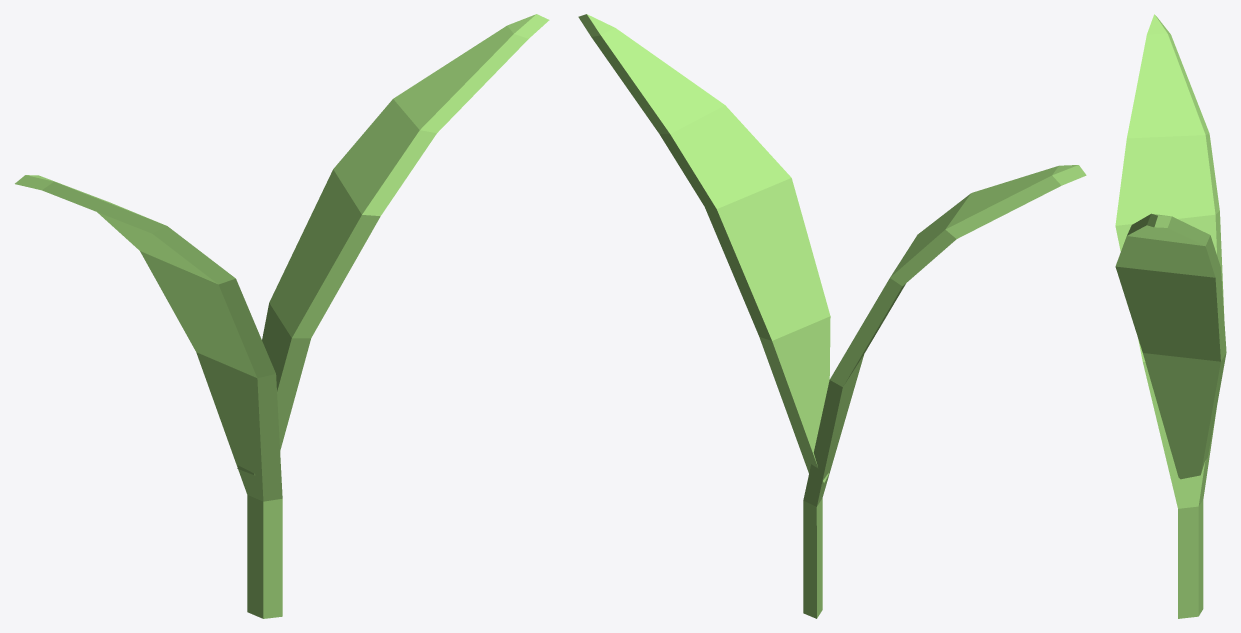
Rendered from carrot_1.glb.
3 views of the same model, side by side, from view 1: azimuth 30°, elevation 25°; view 2: azimuth 150°, elevation 25°; view 3: azimuth 270°, elevation 25° (orthographic). The views are drawn at different scales.
Parts seen in each view (by area): view 1: Carrot_1; view 2: Carrot_1; view 3: Carrot_1.
Boxes of the visible parts, x1,y1,x2,y2 form: Carrot_1: (15, 14, 549, 618); Carrot_1: (578, 14, 1086, 618); Carrot_1: (1115, 14, 1226, 618).
Size of the model in its own units: 0.3551 by 0.3502 by 0.0686.
